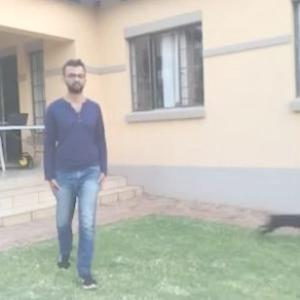follow: (46, 66, 111, 267)
